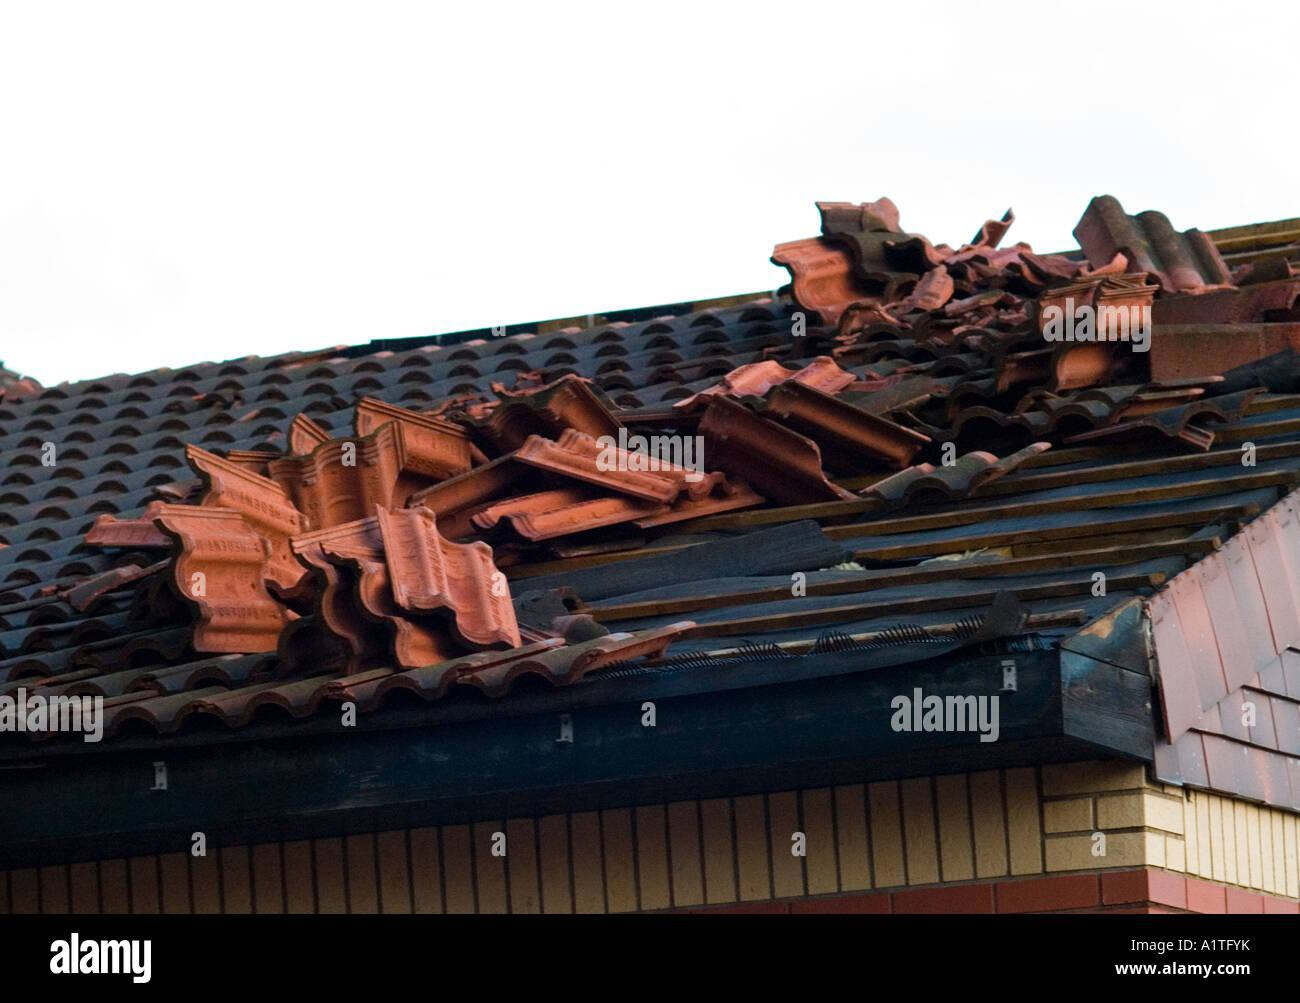sagging_roof: (126, 193, 1287, 686)
